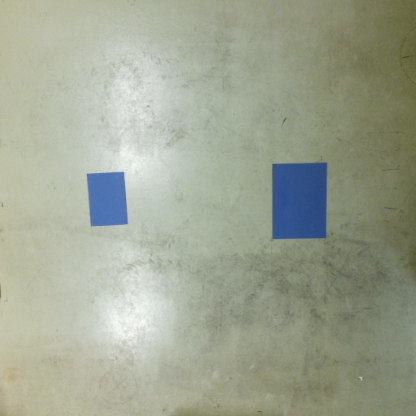Blue: (270, 162, 328, 240), (85, 171, 131, 228)
